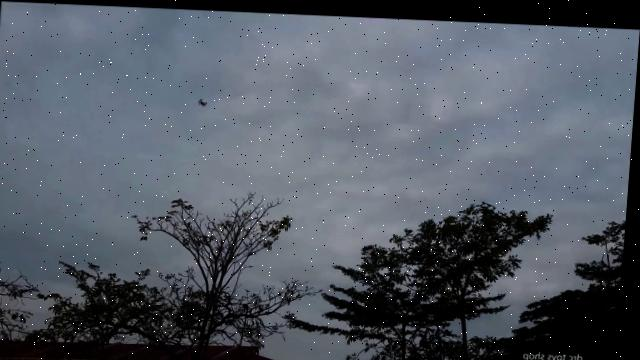drone: (197, 93, 210, 106)
